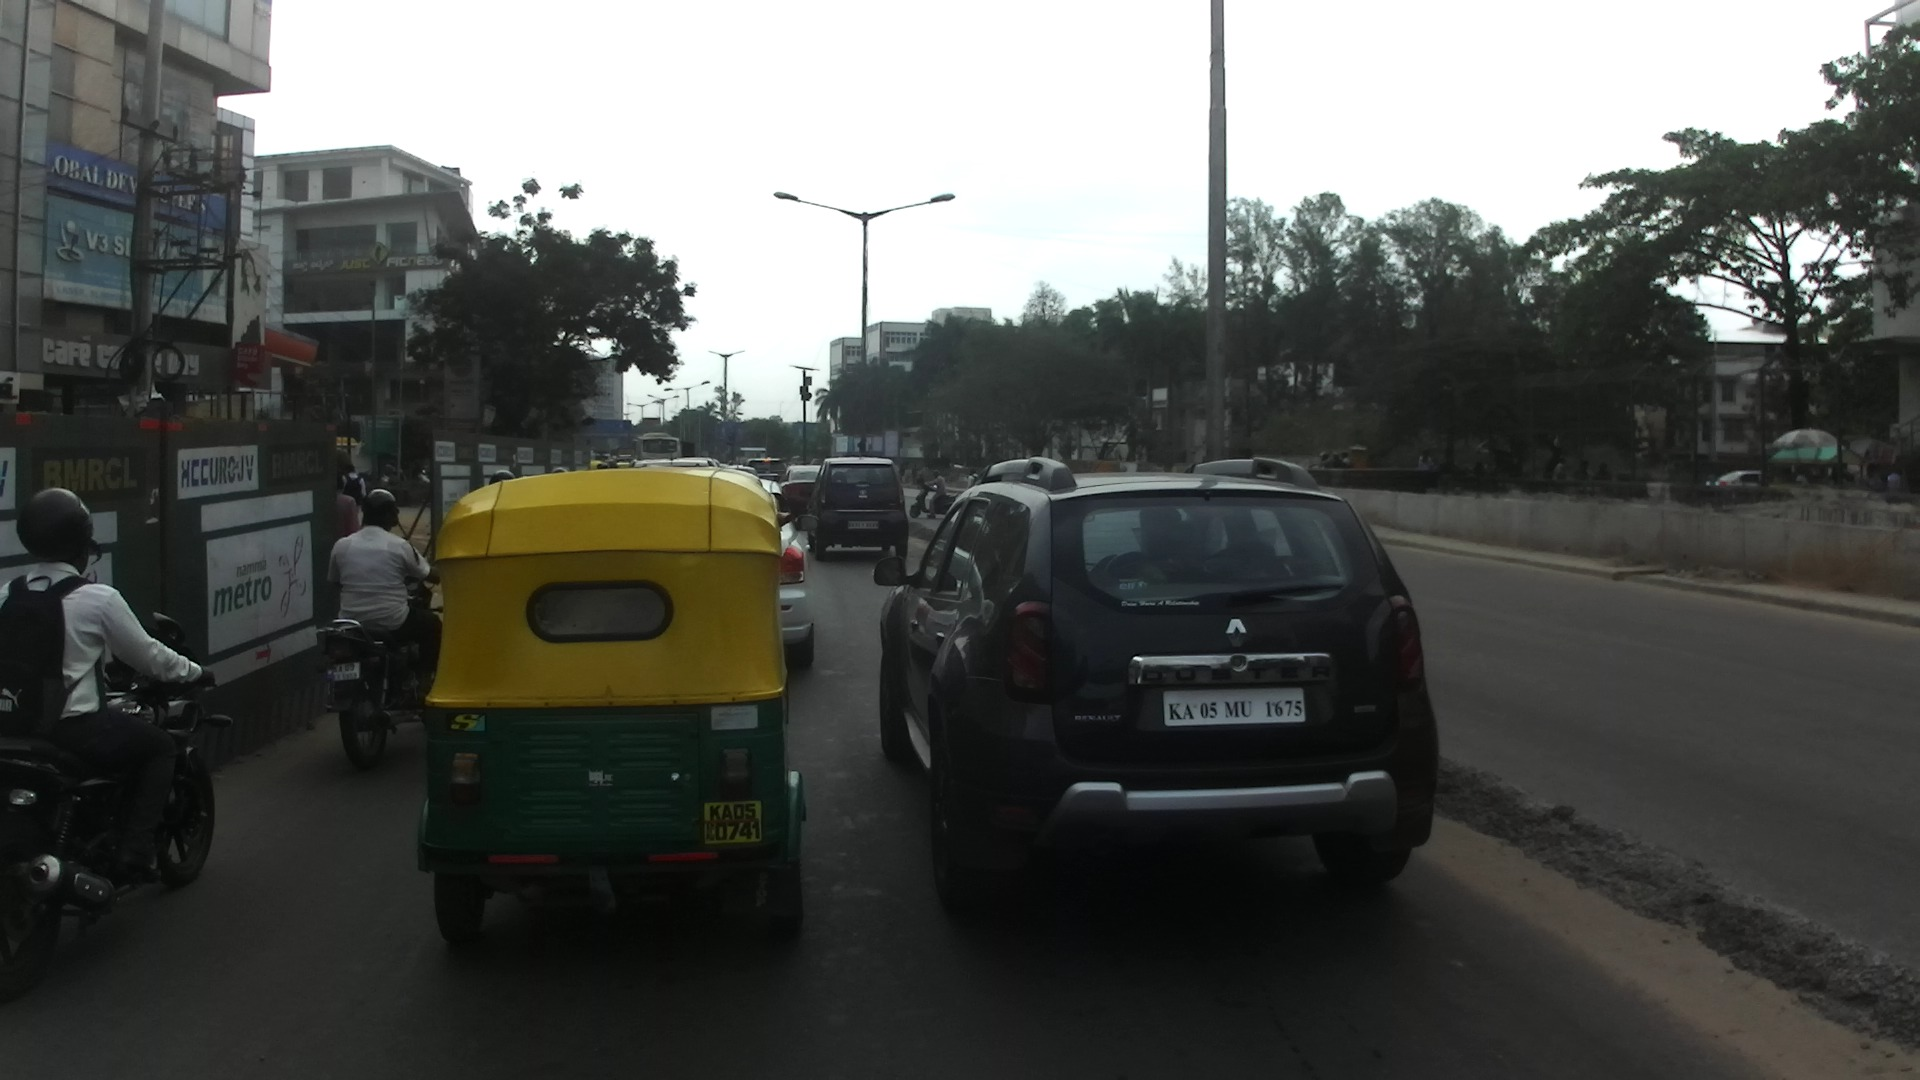autorickshaw: (415, 467, 808, 949)
bus: (636, 434, 680, 473)
car: (870, 456, 1441, 921), (718, 480, 821, 671), (798, 455, 908, 563), (777, 464, 837, 525), (632, 458, 715, 477), (1706, 469, 1767, 493), (747, 457, 789, 488), (675, 457, 721, 474), (724, 463, 759, 481)
motorcycle: (1, 611, 233, 1008), (315, 567, 457, 770), (909, 479, 966, 520), (382, 465, 434, 505)
person: (333, 471, 360, 553), (341, 464, 367, 517), (1592, 460, 1612, 489), (1416, 449, 1433, 475), (965, 467, 981, 494), (1888, 467, 1904, 493), (1552, 458, 1567, 483), (1575, 460, 1590, 482), (1792, 471, 1809, 488), (900, 461, 907, 484), (911, 464, 919, 481)
rider: (1, 487, 213, 896), (331, 487, 442, 715), (924, 468, 948, 520), (488, 469, 515, 491), (1309, 449, 1331, 475), (546, 466, 573, 480), (1329, 453, 1344, 471), (1339, 452, 1353, 470), (607, 454, 619, 469), (596, 463, 610, 472)
traffic light: (799, 376, 813, 404)
truck: (681, 442, 695, 460)
vehicle fallback: (737, 448, 768, 468), (614, 453, 635, 468), (789, 455, 806, 466)
